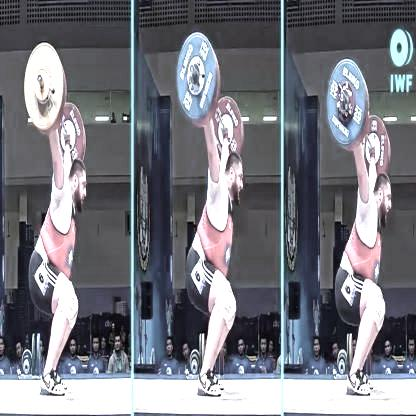Barbell: (36, 72, 44, 88), (340, 90, 347, 106), (190, 60, 196, 78)
